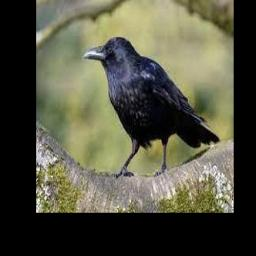Crow: (83, 37, 220, 178)
